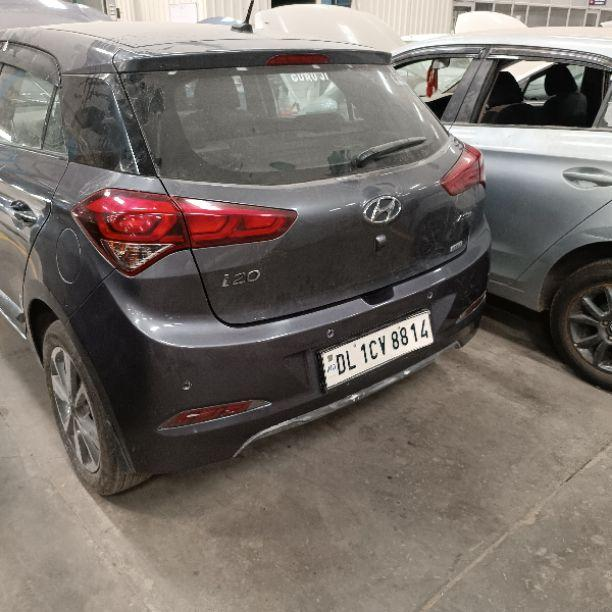license_plate: (315, 307, 435, 393)
